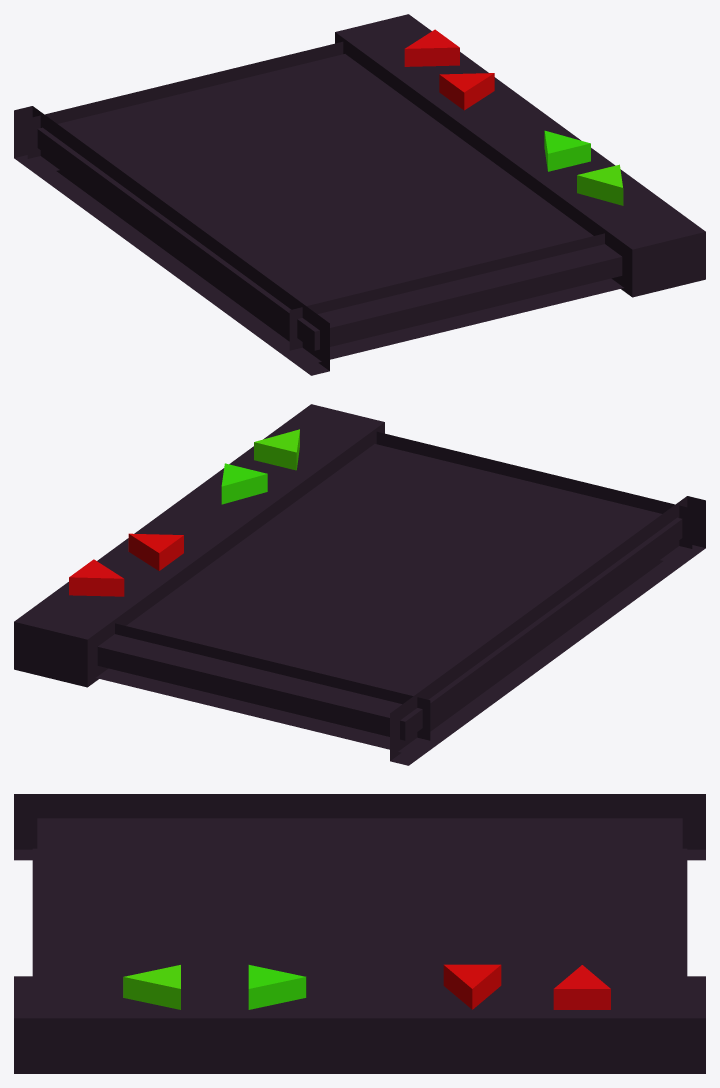
The model's file is monitor01.fbx.
3 renders of one model, top to bottom at view 1: azimuth 30°, elevation 25°; view 2: azimuth 150°, elevation 25°; view 3: azimuth 270°, elevation 25°, orthographic. The views are drawn at different scales.
Visible parts, largest first — view 1: Cube, Cube.004, Cube.003, Cube.001, Cube.002, Cube.008, Cube.007, Cube.006, Cube.005; view 2: Cube, Cube.004, Cube.003, Cube.002, Cube.001, Cube.007, Cube.008, Cube.006, Cube.005; view 3: Cube, Cube.004, Cube.003, Cube.007, Cube.006, Cube.005, Cube.008, Cube.001, Cube.002.
Boxes of the visible parts, box(x1,y1,x2,y2) form: Cube: box(37, 54, 622, 350); Cube.004: box(335, 14, 705, 297); Cube.003: box(14, 106, 329, 375); Cube.001: box(289, 233, 623, 364); Cube.002: box(27, 41, 343, 172); Cube.008: box(404, 29, 459, 66); Cube.007: box(439, 73, 494, 110); Cube.006: box(544, 130, 590, 171); Cube.005: box(577, 164, 623, 205); Cube: box(97, 444, 682, 740); Cube.004: box(14, 404, 384, 687); Cube.003: box(390, 496, 705, 765); Cube.002: box(96, 623, 430, 754); Cube.001: box(376, 431, 692, 562); Cube.007: box(128, 533, 183, 570); Cube.008: box(69, 559, 124, 596); Cube.006: box(221, 463, 267, 504); Cube.005: box(254, 429, 299, 470); Cube: box(37, 818, 682, 976); Cube.004: box(14, 976, 705, 1073); Cube.003: box(14, 794, 705, 860); Cube.007: box(443, 964, 501, 1009); Cube.006: box(248, 965, 306, 1009); Cube.005: box(123, 965, 180, 1009); Cube.008: box(553, 965, 610, 1009); Cube.001: box(32, 801, 77, 976); Cube.002: box(642, 801, 687, 976).
Bounding box in the file's own units: 611 × 97.44 × 797.
